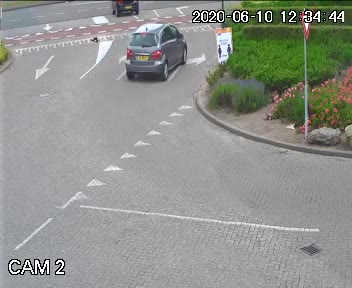car: (124, 22, 187, 84), (106, 0, 147, 18)
